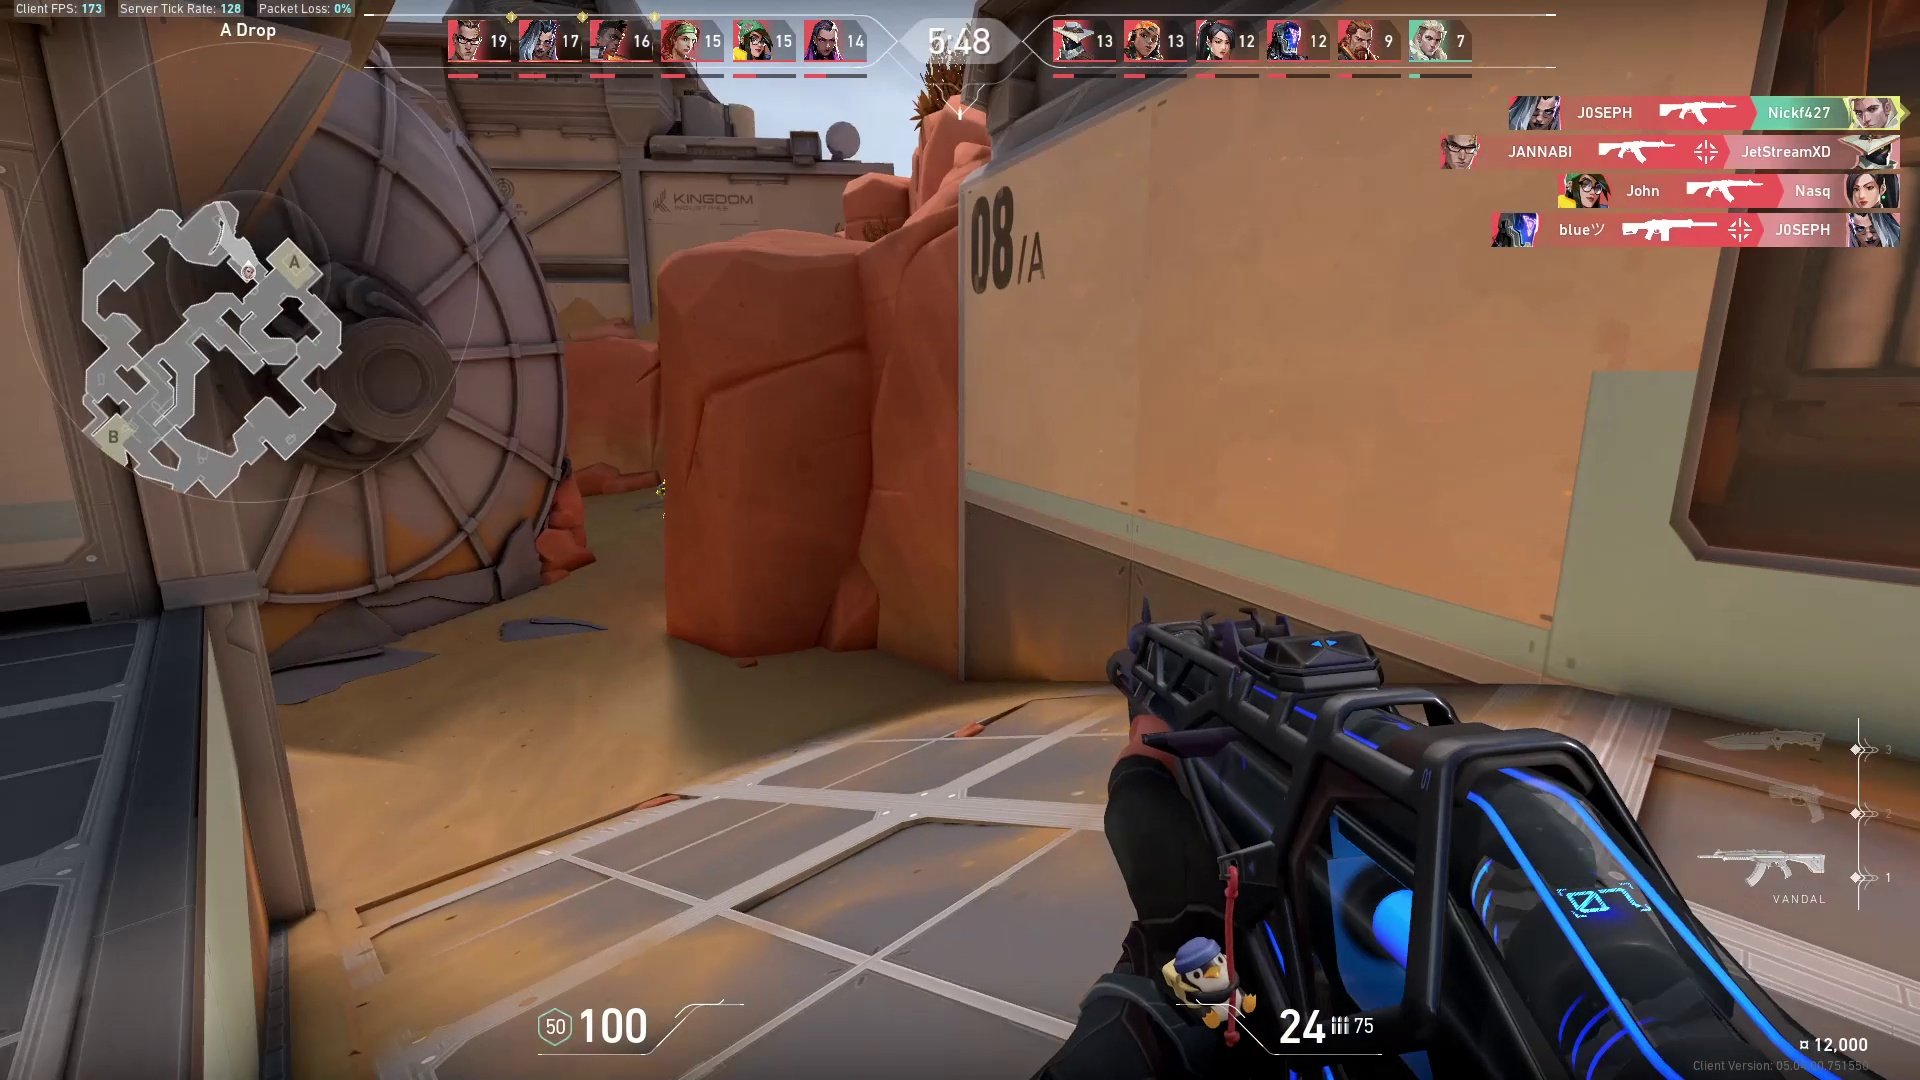enemy_gen: (654, 475, 666, 522)
